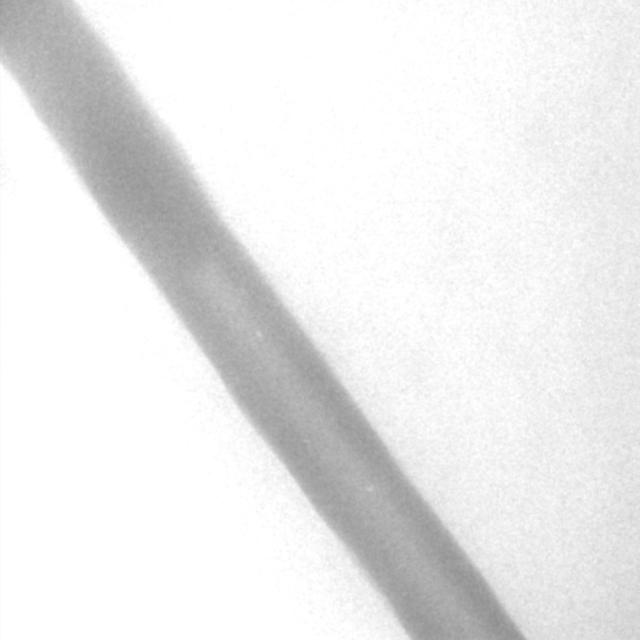air hole: (253, 329, 264, 341), (365, 482, 375, 494)
